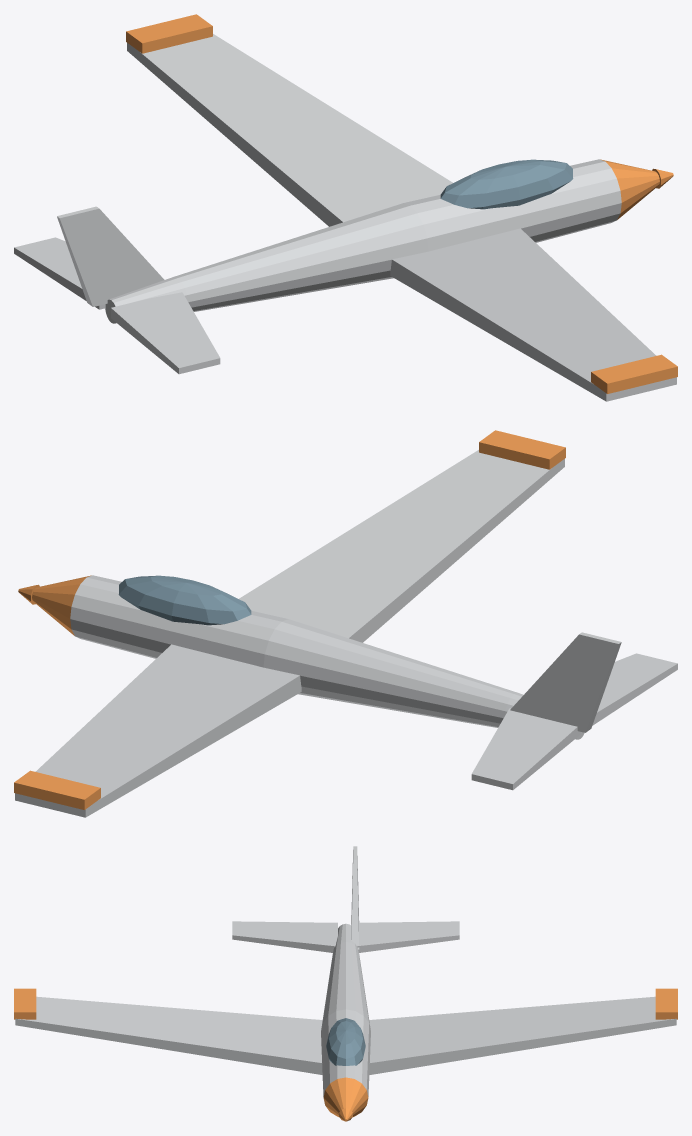
3 renders of one model, top to bottom at view 1: azimuth 30°, elevation 25°; view 2: azimuth 150°, elevation 25°; view 3: azimuth 270°, elevation 25°, orthographic. The views are drawn at different scales.
Size of the model in its own units: 7.32 by 1.54 by 10.04.
